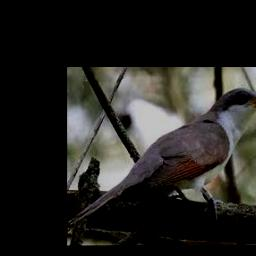Cuckoo: (68, 88, 256, 225)
